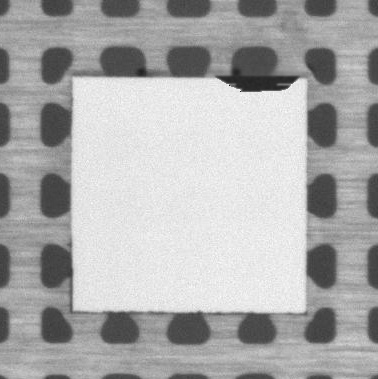DIE_BROKEN: (212, 72, 303, 94)
